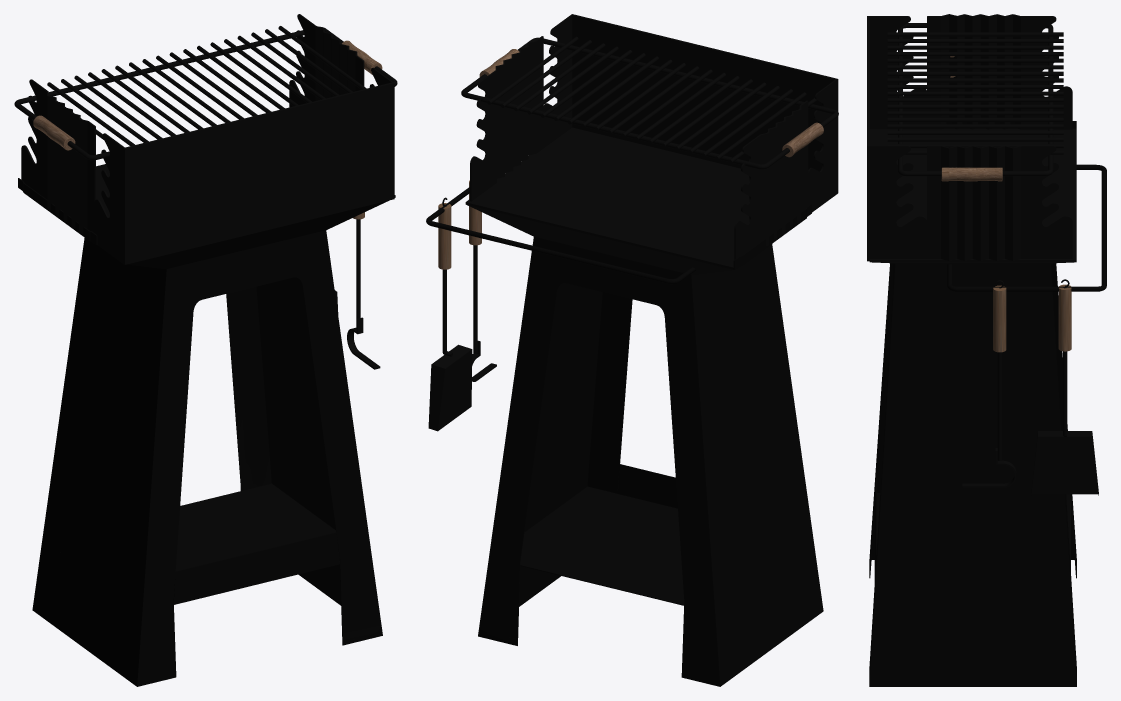
File: parrilla.glb
3 renders of one model, left to right at view 1: azimuth 30°, elevation 25°; view 2: azimuth 150°, elevation 25°; view 3: azimuth 270°, elevation 25°, orthographic.
Parts seen in each view (by area): view 1: baranda(E4E345ED-E92D-4F09-859A-A94B4818D108), ESTRUCTURA FINAL(A5C40C21-97DB-4257-9185-40522766E0F3), baranda(23C3246F-1A8C-4A26-9002-B5830E42B12F), ultima parri(44200C02-F69A-4D07-8803-A0E401958073), baranda(652A0551-BAA0-440F-9F54-E0E1540268C1), ESTRUCTURA FINAL(0C033051-DAD4-41D0-8D06-1B9B7B4D2ADA), baranda(62AD7430-8C1A-4858-B938-6CB3409BB6E8), ESTRUCTURA FINAL(1D12866A-CD08-4898-BB3E-0B0068640598), ESTRUCTURA FINAL(D80E3173-61C1-469A-A732-801221EC73CB), PARRILLA FINAL(D241AD80-6CEC-4E32-B297-603B0789F1B5), ultima parri(982600F7-E2CC-4E3D-96C2-D55A609B08B7), CARBON+MADERA(01AE47F8-A630-43D8-9089-52B37FD49233); view 2: baranda(E4E345ED-E92D-4F09-859A-A94B4818D108), baranda(62AD7430-8C1A-4858-B938-6CB3409BB6E8), ESTRUCTURA FINAL(8EA1BEB4-C811-4BC7-BF21-009073830AD1), ESTRUCTURA FINAL(A5C40C21-97DB-4257-9185-40522766E0F3), ultima parri(44200C02-F69A-4D07-8803-A0E401958073), baranda(652A0551-BAA0-440F-9F54-E0E1540268C1), ESTRUCTURA FINAL(0C033051-DAD4-41D0-8D06-1B9B7B4D2ADA), ESTRUCTURA FINAL(1D12866A-CD08-4898-BB3E-0B0068640598), baranda(23C3246F-1A8C-4A26-9002-B5830E42B12F), ESTRUCTURA FINAL(D80E3173-61C1-469A-A732-801221EC73CB), PARRILLA FINAL(D241AD80-6CEC-4E32-B297-603B0789F1B5), HERRAMIENTAS(1A3E7911-6D3A-4C96-A955-BCDB289B3C09) (+3 smaller); view 3: baranda(652A0551-BAA0-440F-9F54-E0E1540268C1), ESTRUCTURA FINAL(1D12866A-CD08-4898-BB3E-0B0068640598), ESTRUCTURA FINAL(0C033051-DAD4-41D0-8D06-1B9B7B4D2ADA), ESTRUCTURA FINAL(8EA1BEB4-C811-4BC7-BF21-009073830AD1), HERRAMIENTAS(1A3E7911-6D3A-4C96-A955-BCDB289B3C09), baranda(33FA769A-0A62-4606-A959-C104E89C55A8), baranda(E4E345ED-E92D-4F09-859A-A94B4818D108), baranda(23C3246F-1A8C-4A26-9002-B5830E42B12F), PARRILLA FINAL(D241AD80-6CEC-4E32-B297-603B0789F1B5), baranda(62AD7430-8C1A-4858-B938-6CB3409BB6E8), HERRAMIENTAS(BAF5BC63-3D43-4A50-BBD5-32B637ABE9A8), HERRAMIENTAS(F4AA614C-D9CC-487D-AA85-87F964750B47) (+24 smaller).
Boxes of the visible parts, x1,y1,x2,y2 form: baranda(E4E345ED-E92D-4F09-859A-A94B4818D108): (32, 238, 166, 686); ESTRUCTURA FINAL(A5C40C21-97DB-4257-9185-40522766E0F3): (123, 82, 394, 264); baranda(23C3246F-1A8C-4A26-9002-B5830E42B12F): (137, 230, 381, 686); ultima parri(44200C02-F69A-4D07-8803-A0E401958073): (173, 483, 339, 604); baranda(652A0551-BAA0-440F-9F54-E0E1540268C1): (256, 258, 382, 635); ESTRUCTURA FINAL(0C033051-DAD4-41D0-8D06-1B9B7B4D2ADA): (21, 79, 124, 261); baranda(62AD7430-8C1A-4858-B938-6CB3409BB6E8): (32, 238, 271, 607); ESTRUCTURA FINAL(1D12866A-CD08-4898-BB3E-0B0068640598): (289, 14, 392, 107); ESTRUCTURA FINAL(D80E3173-61C1-469A-A732-801221EC73CB): (127, 200, 389, 269); PARRILLA FINAL(D241AD80-6CEC-4E32-B297-603B0789F1B5): (14, 26, 397, 160); ultima parri(982600F7-E2CC-4E3D-96C2-D55A609B08B7): (18, 178, 97, 244); CARBON+MADERA(01AE47F8-A630-43D8-9089-52B37FD49233): (33, 115, 75, 150); baranda(E4E345ED-E92D-4F09-859A-A94B4818D108): (691, 244, 823, 686); baranda(62AD7430-8C1A-4858-B938-6CB3409BB6E8): (479, 236, 720, 686); ESTRUCTURA FINAL(8EA1BEB4-C811-4BC7-BF21-009073830AD1): (465, 127, 836, 269); ESTRUCTURA FINAL(A5C40C21-97DB-4257-9185-40522766E0F3): (571, 14, 838, 193); ultima parri(44200C02-F69A-4D07-8803-A0E401958073): (520, 464, 684, 605); baranda(652A0551-BAA0-440F-9F54-E0E1540268C1): (478, 265, 602, 636); ESTRUCTURA FINAL(0C033051-DAD4-41D0-8D06-1B9B7B4D2ADA): (734, 79, 836, 259); ESTRUCTURA FINAL(1D12866A-CD08-4898-BB3E-0B0068640598): (470, 15, 572, 201); baranda(23C3246F-1A8C-4A26-9002-B5830E42B12F): (587, 253, 823, 610); ESTRUCTURA FINAL(D80E3173-61C1-469A-A732-801221EC73CB): (466, 204, 732, 274); PARRILLA FINAL(D241AD80-6CEC-4E32-B297-603B0789F1B5): (461, 37, 838, 169); HERRAMIENTAS(1A3E7911-6D3A-4C96-A955-BCDB289B3C09): (428, 344, 472, 431); baranda(652A0551-BAA0-440F-9F54-E0E1540268C1): (869, 263, 1076, 686); ESTRUCTURA FINAL(1D12866A-CD08-4898-BB3E-0B0068640598): (869, 145, 1072, 260); ESTRUCTURA FINAL(0C033051-DAD4-41D0-8D06-1B9B7B4D2ADA): (869, 14, 1072, 129); ESTRUCTURA FINAL(8EA1BEB4-C811-4BC7-BF21-009073830AD1): (869, 128, 1076, 262); HERRAMIENTAS(1A3E7911-6D3A-4C96-A955-BCDB289B3C09): (1031, 431, 1098, 495); baranda(33FA769A-0A62-4606-A959-C104E89C55A8): (947, 164, 1106, 291); baranda(E4E345ED-E92D-4F09-859A-A94B4818D108): (871, 263, 1074, 559); baranda(23C3246F-1A8C-4A26-9002-B5830E42B12F): (869, 263, 895, 685); PARRILLA FINAL(D241AD80-6CEC-4E32-B297-603B0789F1B5): (898, 23, 1053, 176); baranda(62AD7430-8C1A-4858-B938-6CB3409BB6E8): (1051, 263, 1076, 685); HERRAMIENTAS(BAF5BC63-3D43-4A50-BBD5-32B637ABE9A8): (993, 285, 1006, 352); HERRAMIENTAS(F4AA614C-D9CC-487D-AA85-87F964750B47): (1058, 284, 1071, 351).
Bounding box in the file's own units: 0.7274 × 1.16 × 0.4629.
Materials: 53 (6 with a texture image).
